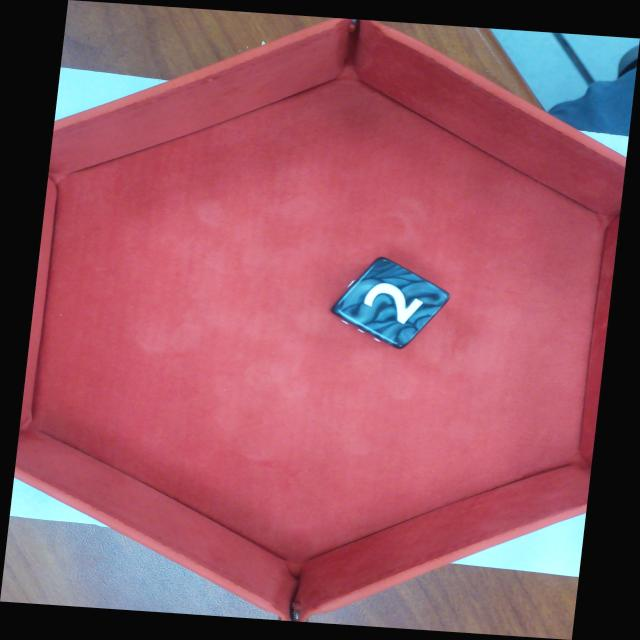dice: (330, 252, 455, 353)
